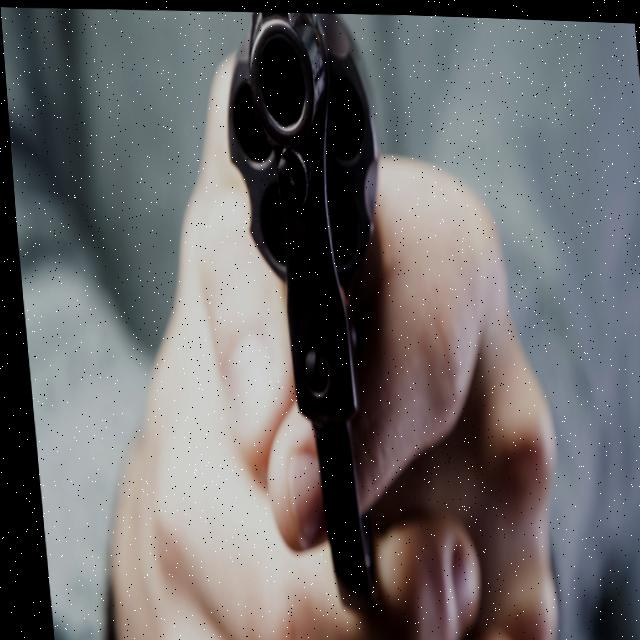pistol: (214, 6, 405, 601)
